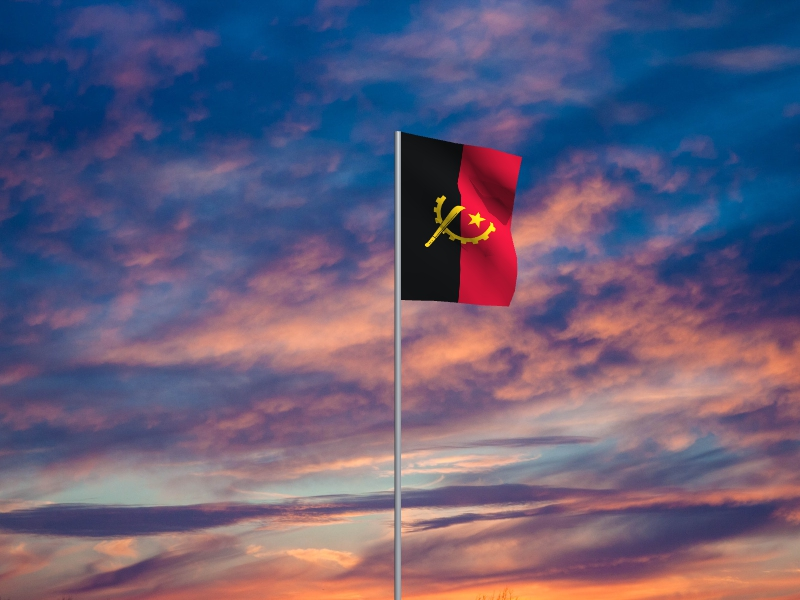ao: (402, 133, 525, 309)
